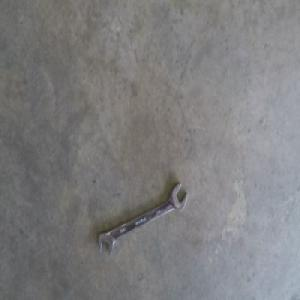Wrench: (98, 183, 187, 255)
